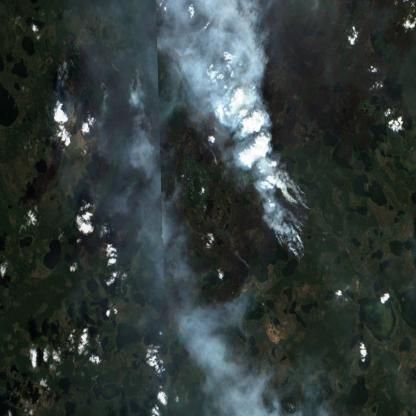fire: (267, 164, 316, 273), (117, 57, 146, 106)
